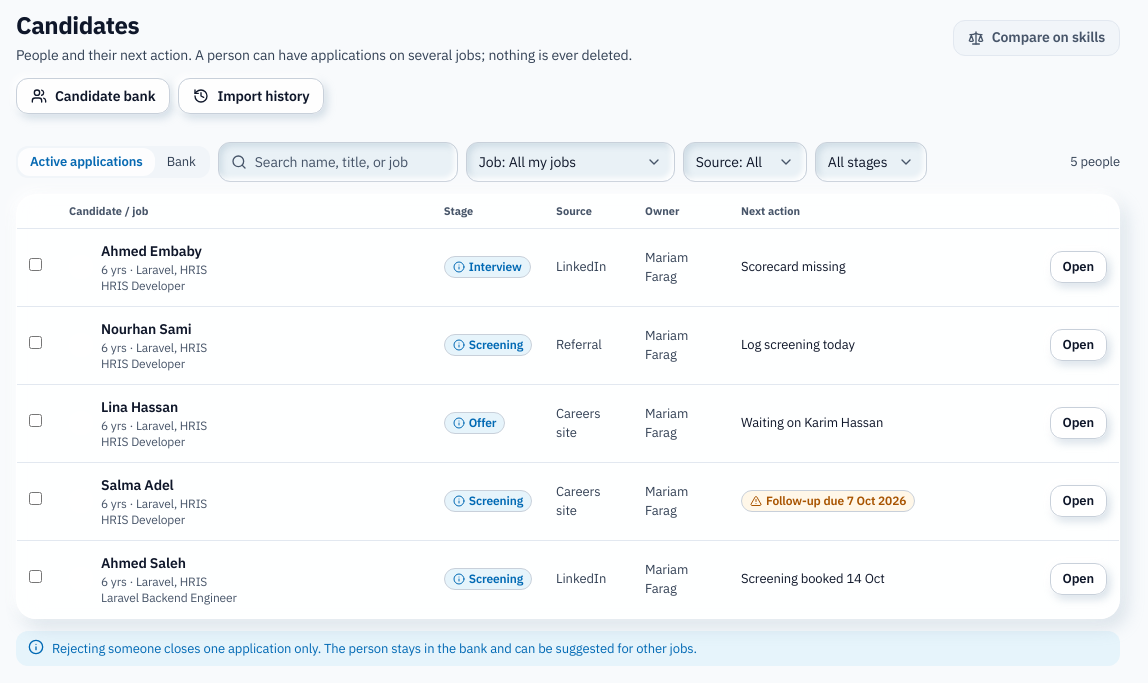
Test: Candidates page › filters by stage and drops selections that the filter hides
The width and height of the screenshot is (1148, 683).
Expected: the table is shown, [17,195,1119,618]
Step 1. Click the checkbox named "Select Ahmed Embaby (HRIS Developer)" → (36, 265), box [29,258,42,271]
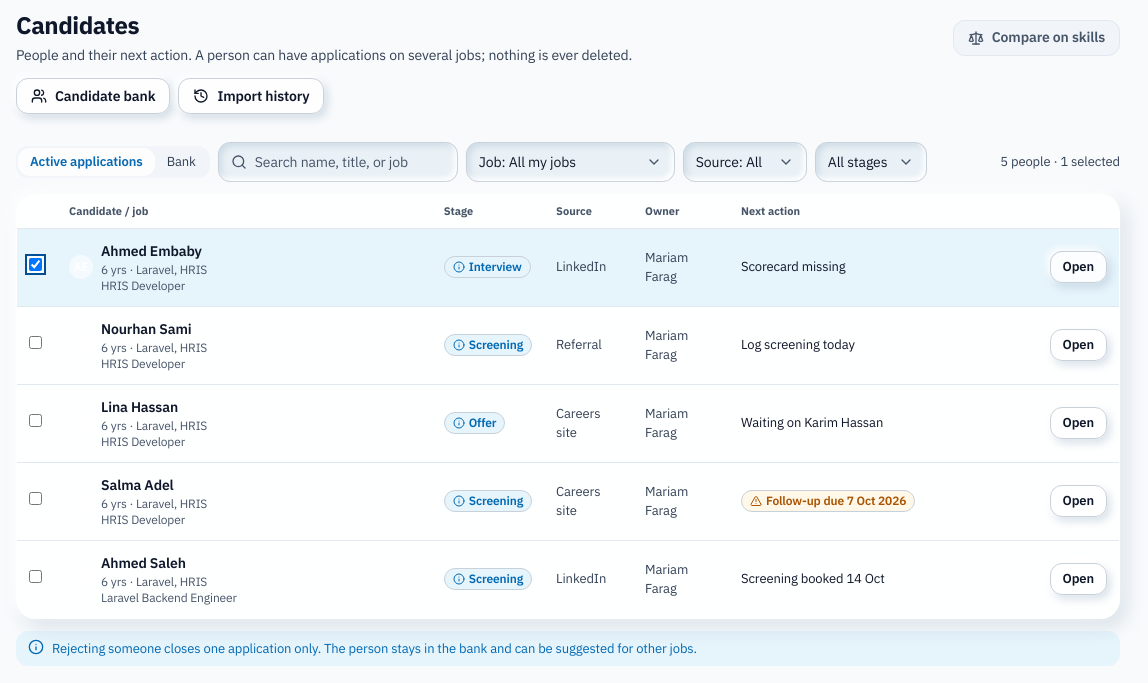
Step 2. Click the checkbox named "Select Nourhan Sami (HRIS Developer)" → (36, 343), box [29,336,42,349]
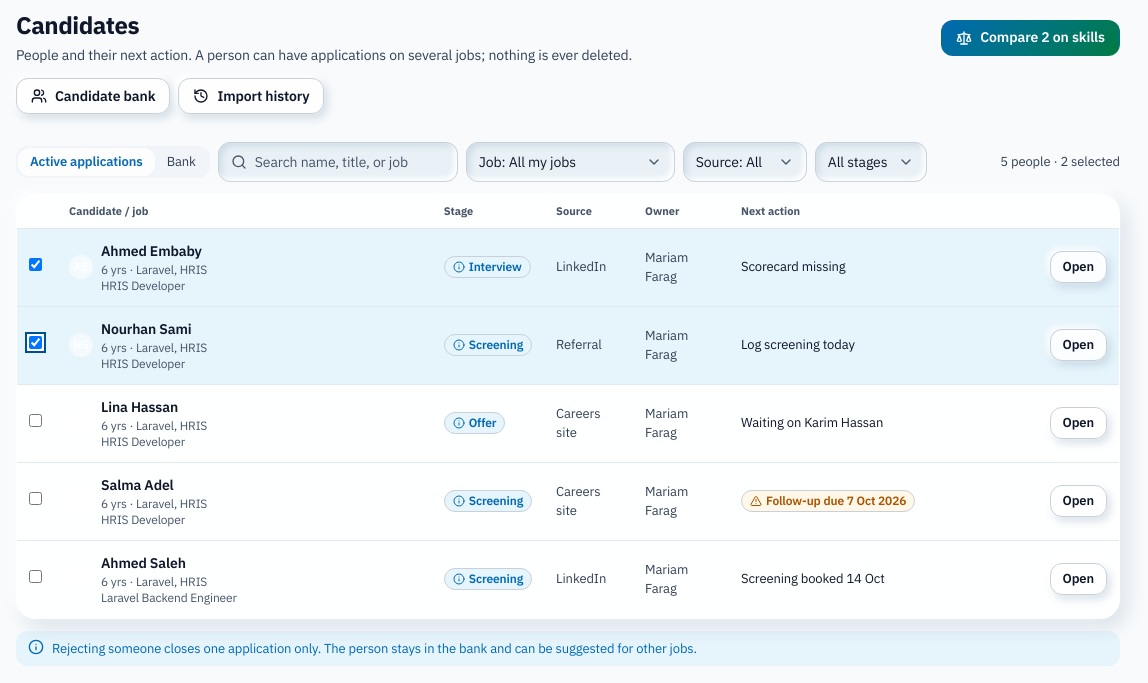
Step 3. Select "Offer" in the 3rd dropdown named "Stage" → (871, 162), box [828,143,914,181]
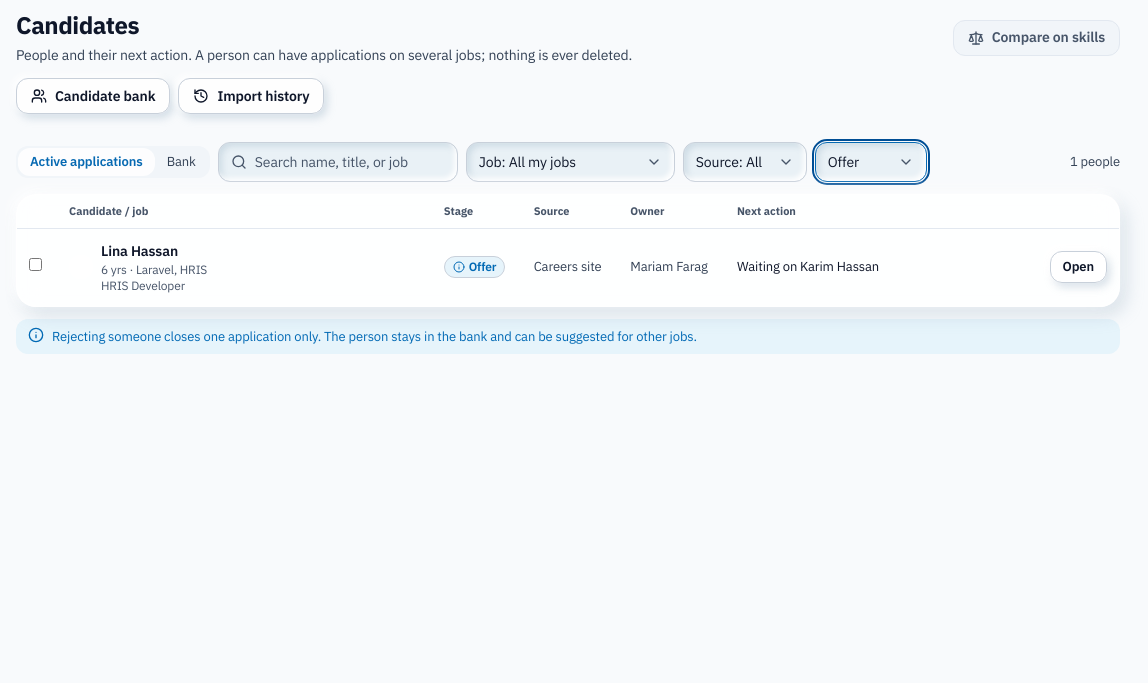
Expected: the link "Lina Hassan" is shown, [101,242,178,260]
Now the number of rows is 2, box [17,195,1119,228]; [17,228,1119,306]
Now the link "Compare 2 on skills" is gone
Step 4. Select "All stages" in the 3rd dropdown named "Stage" → (871, 162), box [828,143,914,181]
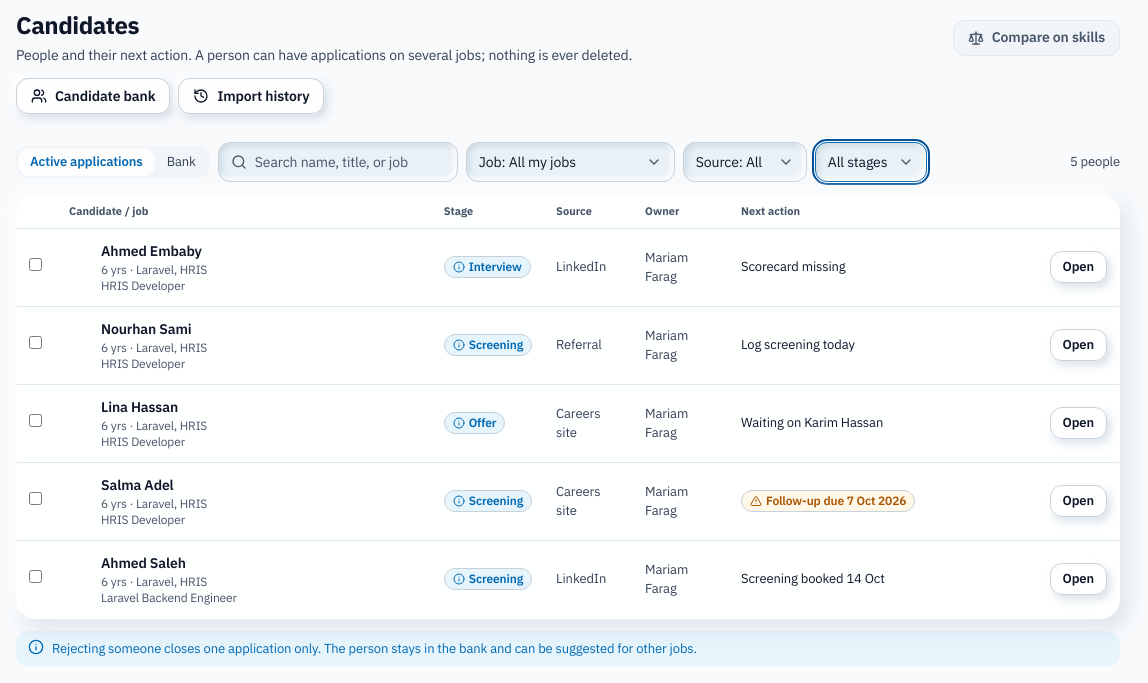
Expected: the checkbox named "Select Ahmed Embaby (HRIS Developer)" is not checked, [29,258,42,271]
Now the checkbox named "Select Nourhan Sami (HRIS Developer)" is not checked, box [29,336,42,349]
Now the text "5 people" is shown, box [1070,152,1120,172]
